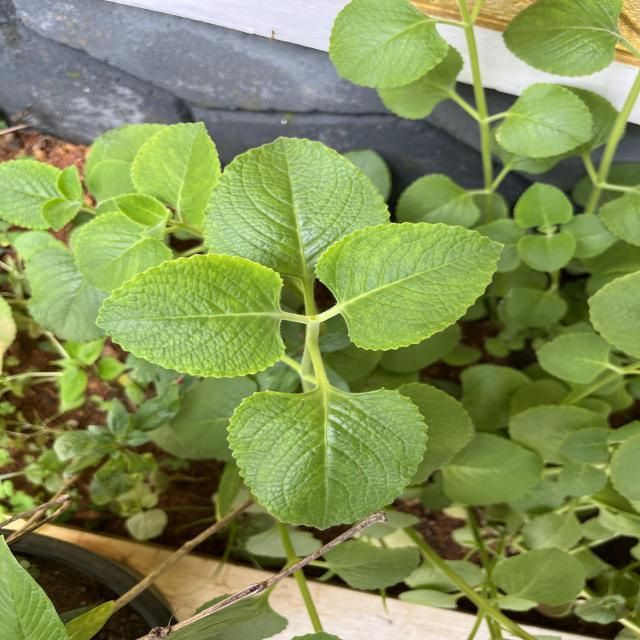Plectranthus barbatus: (224, 384, 430, 532), (312, 220, 508, 354), (94, 252, 289, 380), (200, 134, 393, 256), (326, 0, 450, 90), (130, 120, 224, 229), (500, 0, 626, 79), (72, 209, 176, 294), (494, 81, 596, 160), (534, 332, 612, 386)
